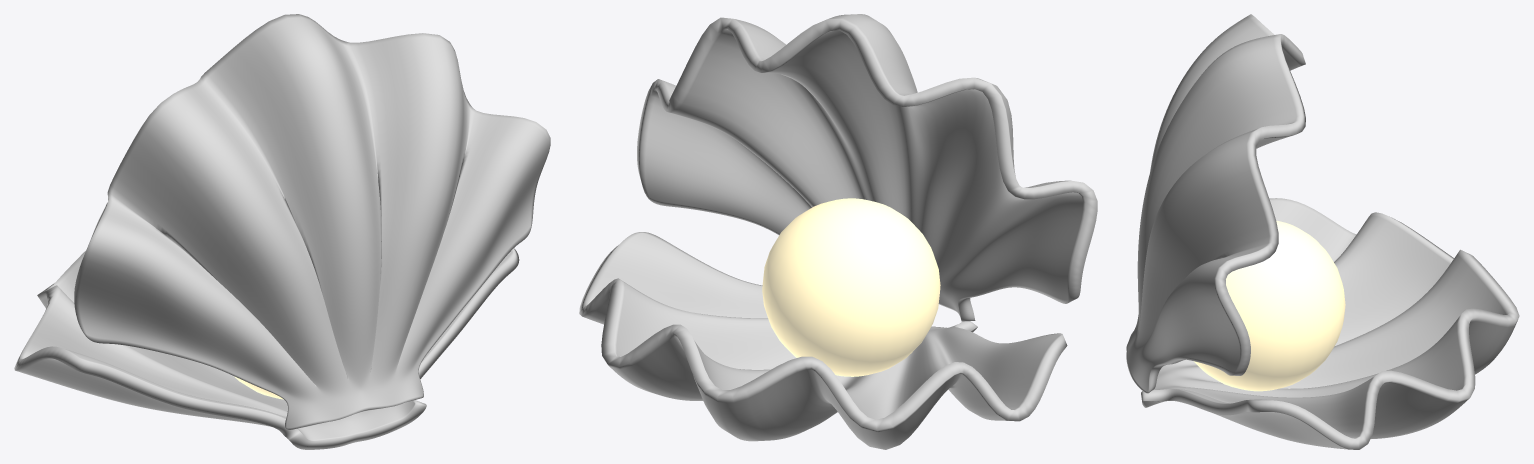
The model's file is SHELL.glb.
3 renders of one model, left to right at view 1: azimuth 30°, elevation 25°; view 2: azimuth 150°, elevation 25°; view 3: azimuth 270°, elevation 25°, orthographic. The views are drawn at different scales.
Visible parts, largest first — view 1: Plane, Plane.001; view 2: Plane, Plane.001, Sphere; view 3: Plane.001, Plane, Sphere.
Boxes of the visible parts, x1,y1,x2,y2 form: Plane: (74,14,550,429); Plane.001: (14,248,519,449); Plane: (637,14,1097,321); Plane.001: (579,232,1067,449); Sphere: (762,198,940,376); Plane.001: (1141,198,1519,449); Plane: (1126,14,1305,393); Sphere: (1193,220,1345,391).
Size of the model in its own units: 2.79 by 2.23 by 2.16.
